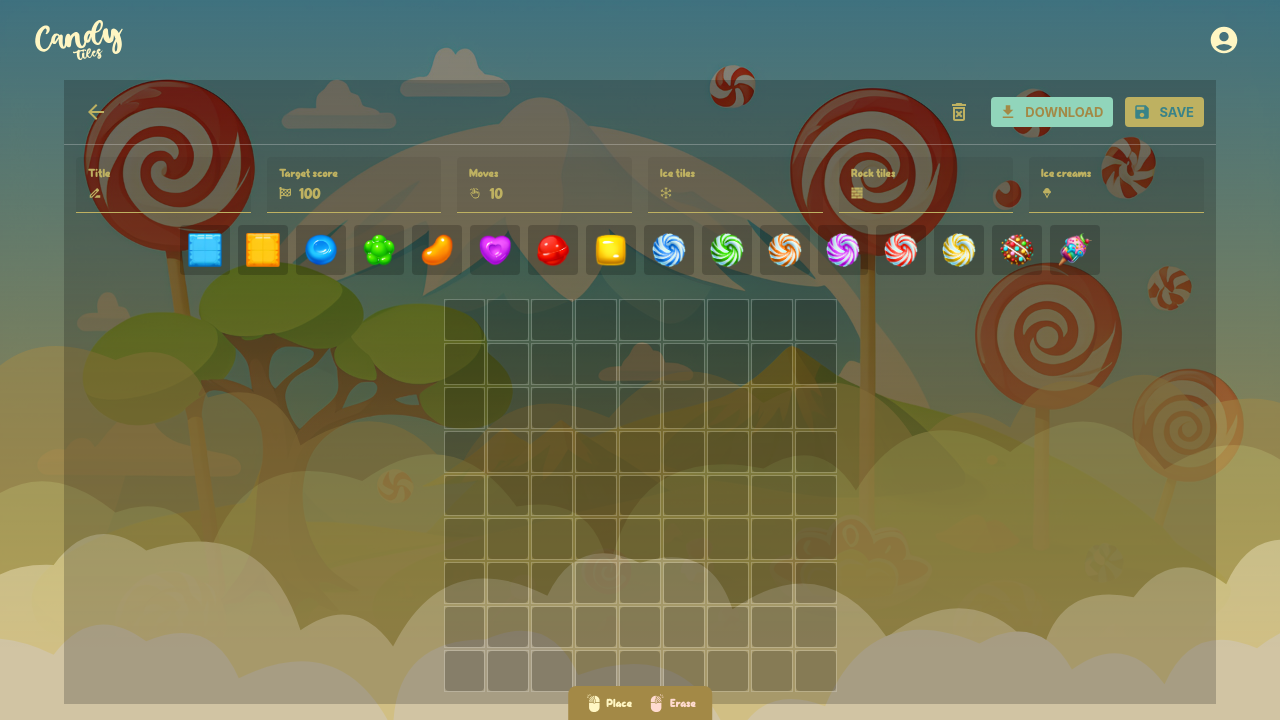
Test case: Level editor page › clicking the cancel button in clear editor dialog should close the dialog
The image size is (1280, 720).
Click the button with test id "clear-editor-button": (959, 112) left=939, top=92, right=979, bottom=132
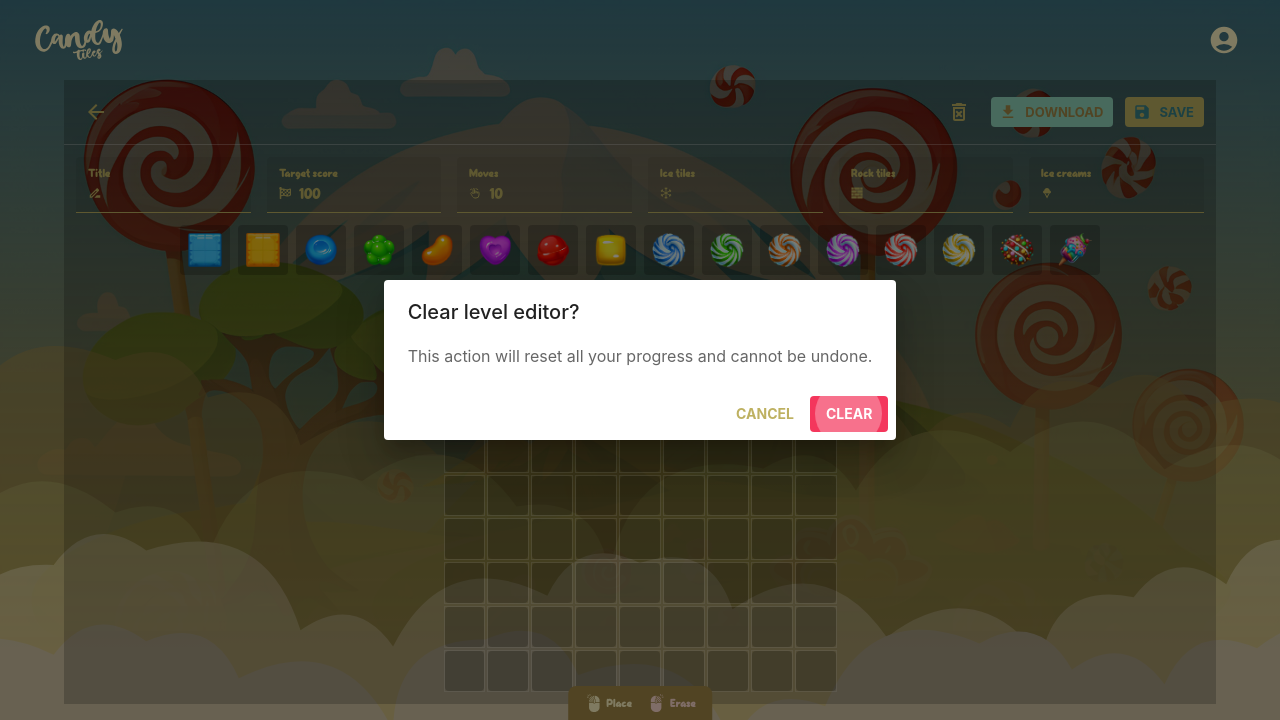
Result: the button "Cancel" is shown
Click the button "Cancel": (765, 415) left=728, top=396, right=802, bottom=433
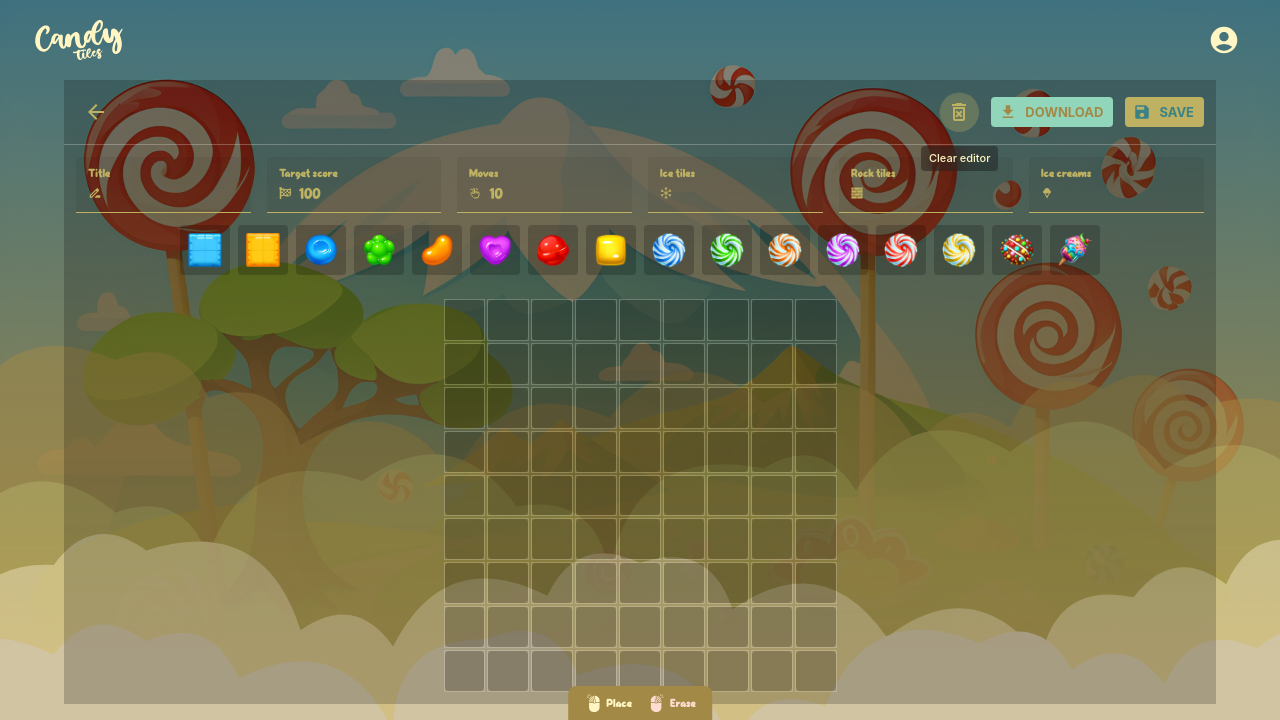
Result: the element with test id "clear-editor-dialog" is gone
